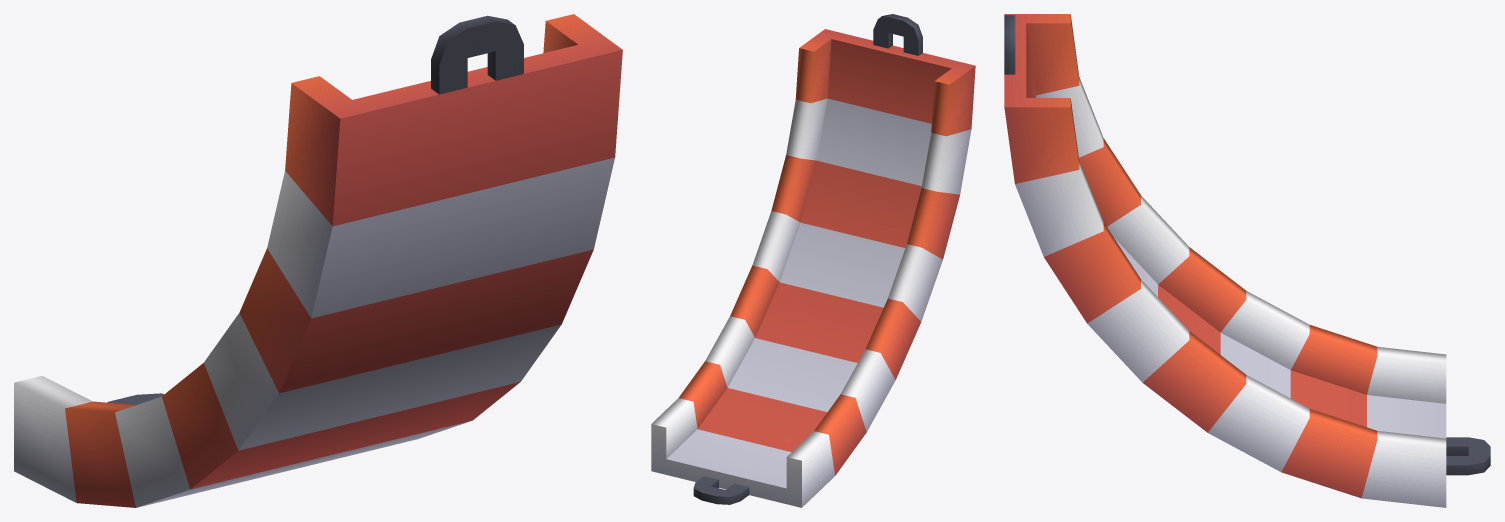
Rendered from track-striped-narrow-straight-bend.glb.
3 views of the same model, side by side, from view 1: azimuth 30°, elevation 25°; view 2: azimuth 150°, elevation 25°; view 3: azimuth 270°, elevation 25° (orthographic). The views are drawn at different scales.
Visible parts, largest first — view 1: track-striped-narrow-straight-bend; view 2: track-striped-narrow-straight-bend; view 3: track-striped-narrow-straight-bend.
Boxes of the visible parts, <box> form: track-striped-narrow-straight-bend: <box>14,14,622,507</box>; track-striped-narrow-straight-bend: <box>651,14,975,507</box>; track-striped-narrow-straight-bend: <box>1004,14,1490,507</box>.
Size of the model in its own units: 3 by 6.6 by 6.6.
1 material, 1 textured.
